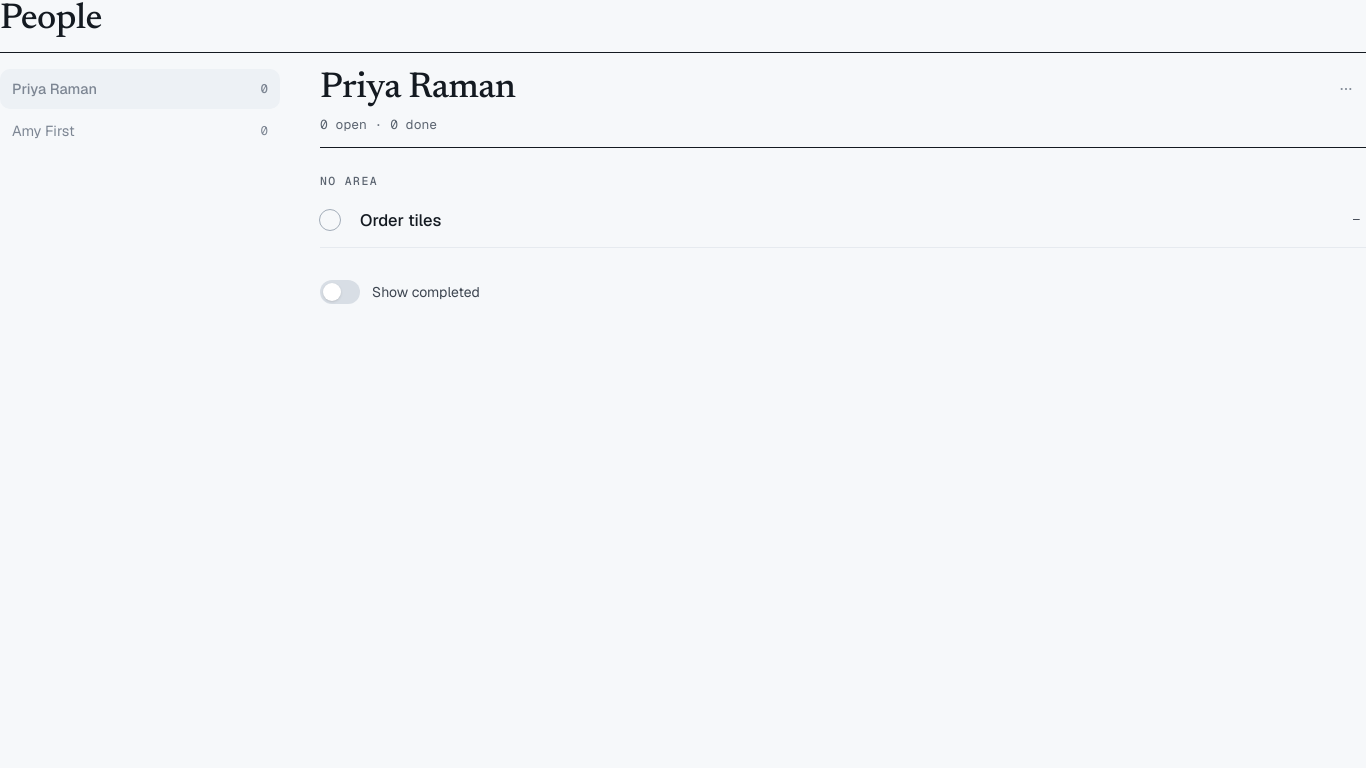
Test case: merging from the People view › selects the survivor, removes the merged person from the list and the cache
Check: the heading "Priya Raman" is shown, box x1=320 y1=71 x2=515 y2=107
Click the button named "Person actions": (1346, 89) x1=1326 y1=69 x2=1365 y2=109
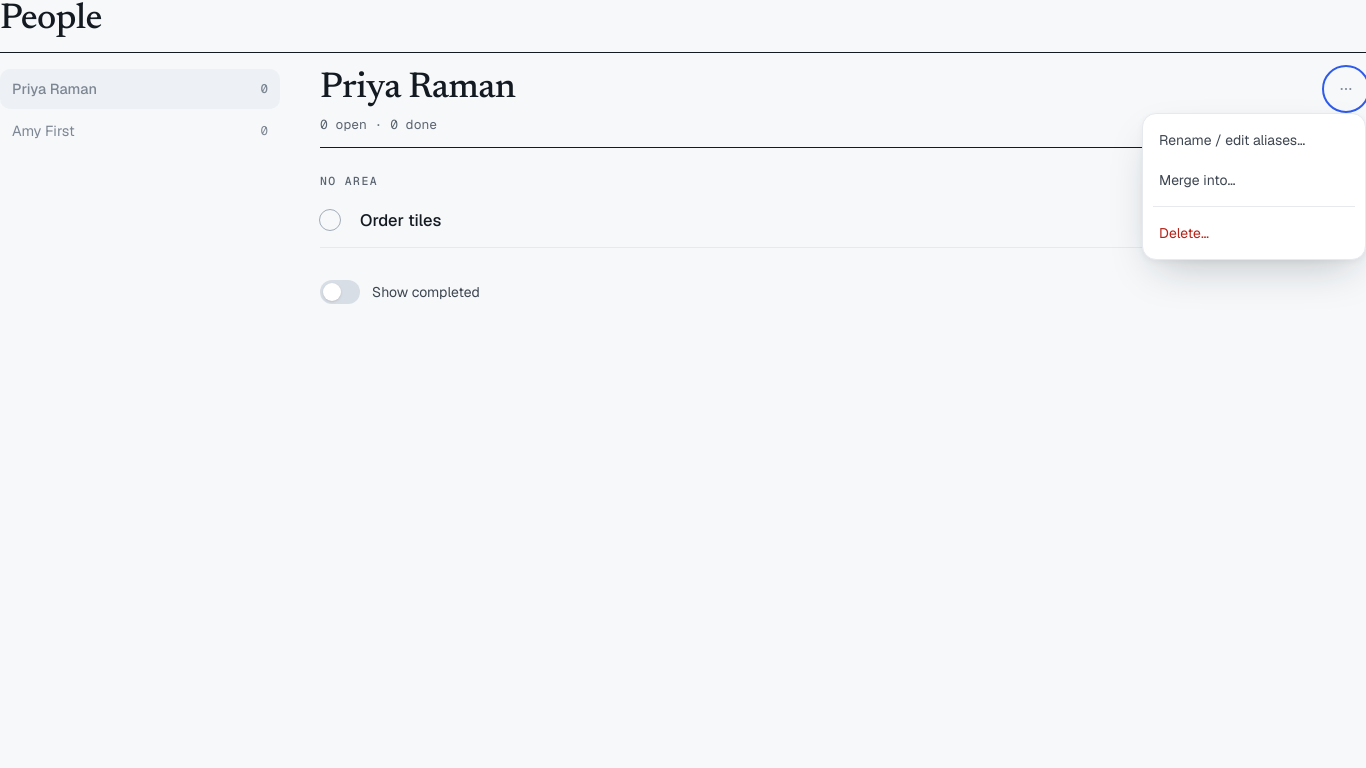
Click the menu item "Merge into…": (1254, 180) x1=1149 y1=160 x2=1359 y2=200
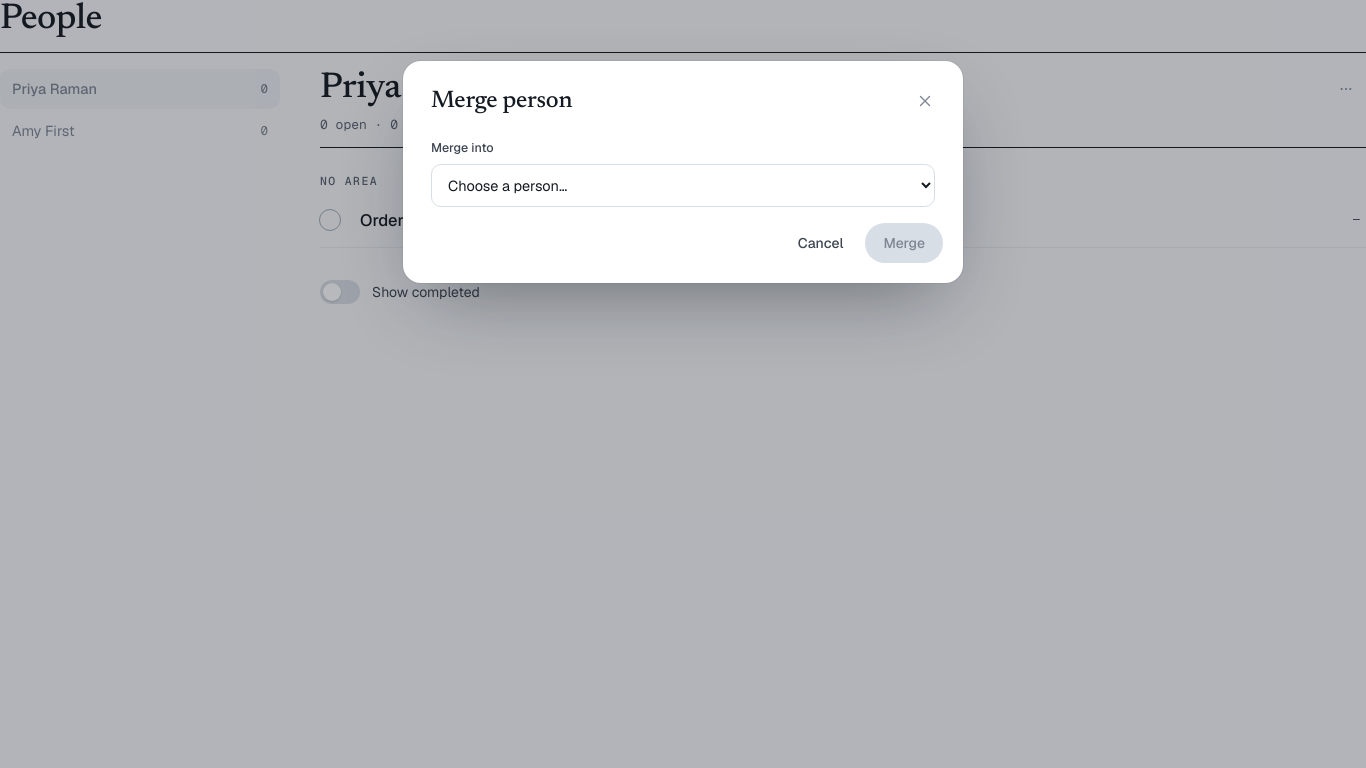
Select "Amy First" in the dropdown labelled "Merge into": (683, 186) x1=431 y1=164 x2=935 y2=207
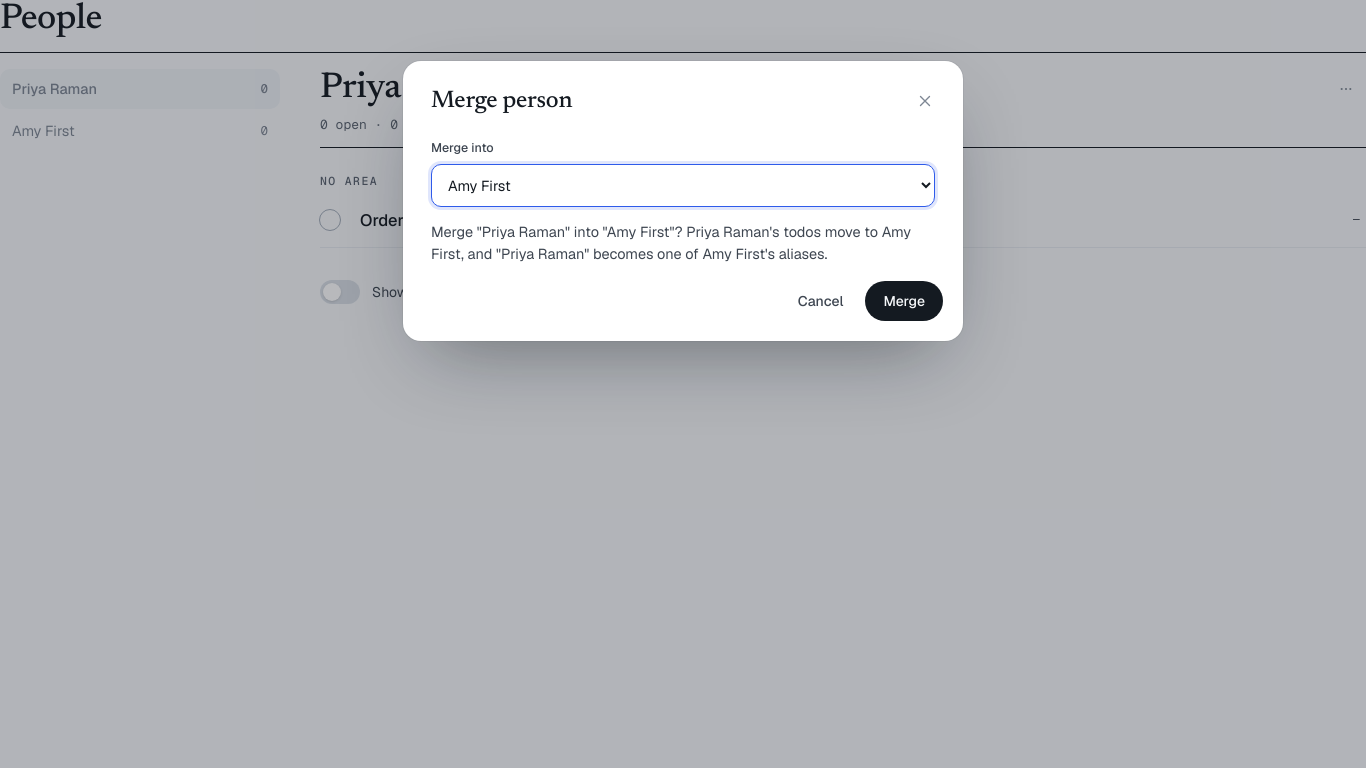
Click the button "Merge": (904, 301) x1=865 y1=281 x2=943 y2=321
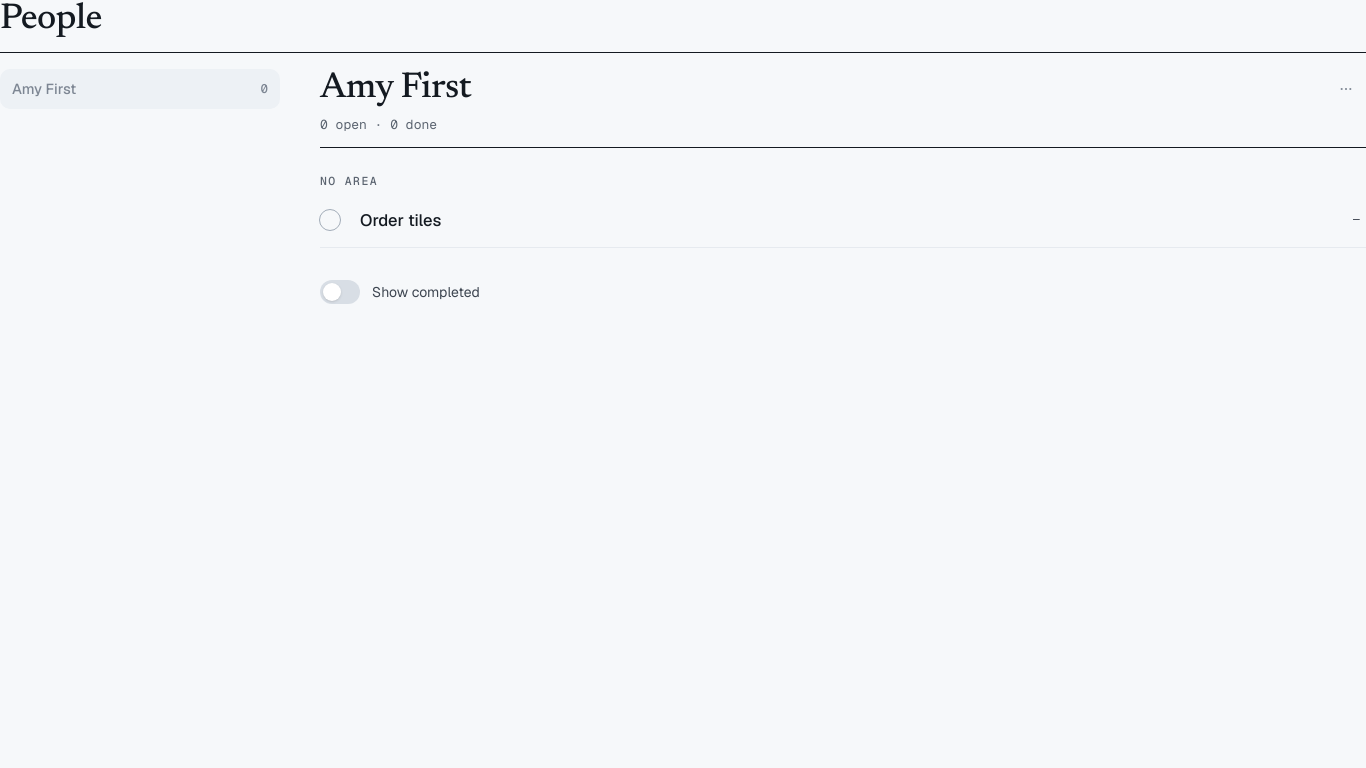
Check: the heading "Amy First" is shown, box x1=320 y1=71 x2=471 y2=107
Check: the button "Priya Raman" is gone
Check: the dialog is gone
